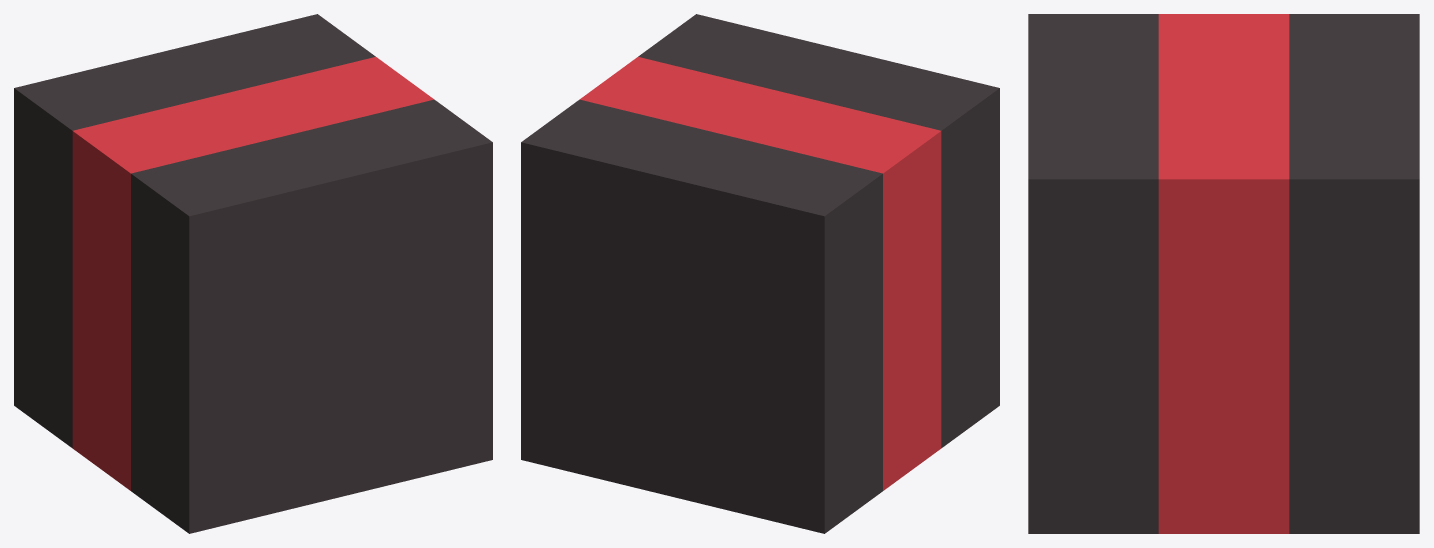
Rendered from still.fbx.
The picture shows the model from 3 angles, left to right: view 1: azimuth 30°, elevation 25°; view 2: azimuth 150°, elevation 25°; view 3: azimuth 270°, elevation 25°; orthographic projection. The views are drawn at different scales.
Parts seen in each view (by area): view 1: Cube; view 2: Cube; view 3: Cube.
Boxes of the visible parts, x1,y1,x2,y2 form: Cube: (14,14,492,533); Cube: (521,14,999,533); Cube: (1028,14,1419,533).
Bounding box in the file's own units: 274 × 274 × 274.
